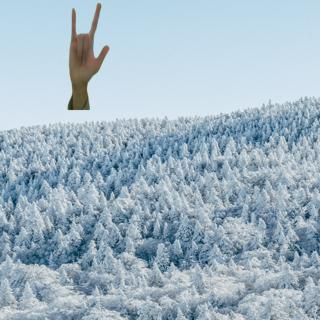ILY: (64, 1, 112, 86)
